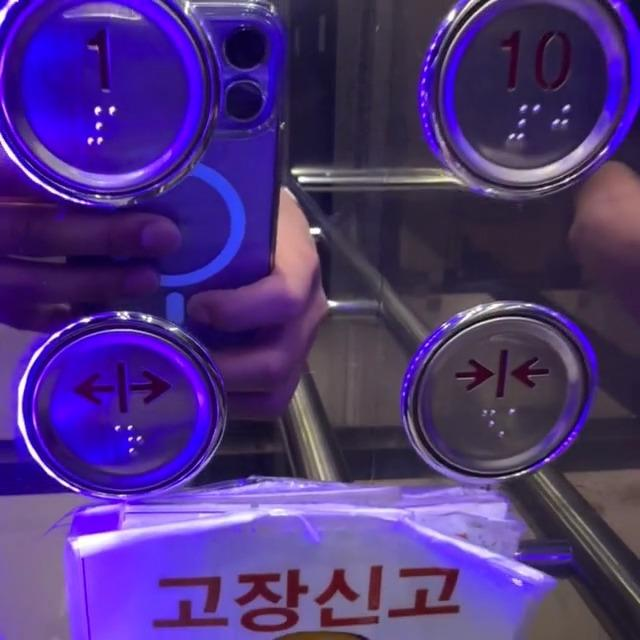button: (413, 1, 626, 182), (33, 6, 203, 191), (43, 319, 213, 494), (400, 296, 582, 439)
